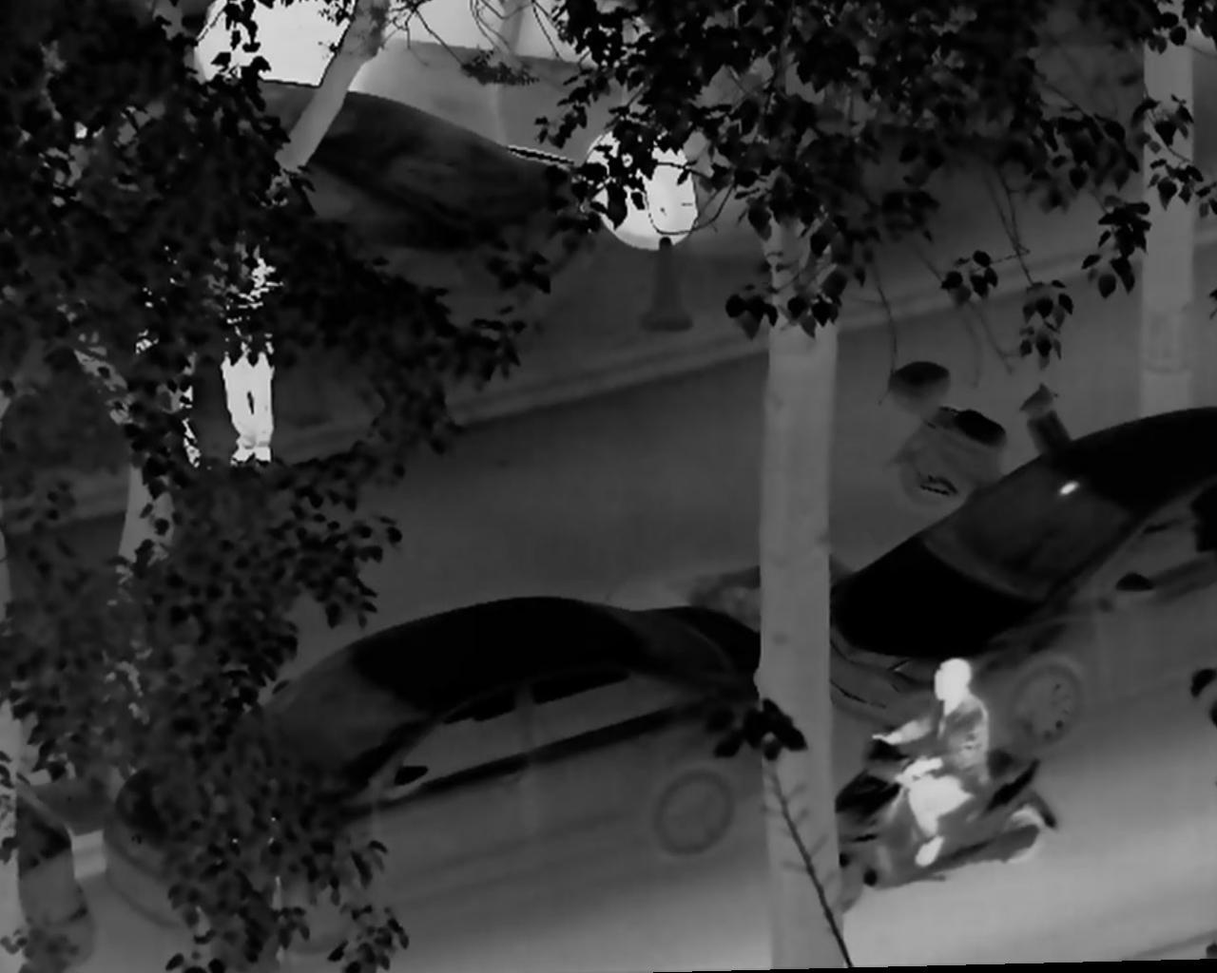person: (872, 641, 991, 871), (205, 226, 290, 471)
